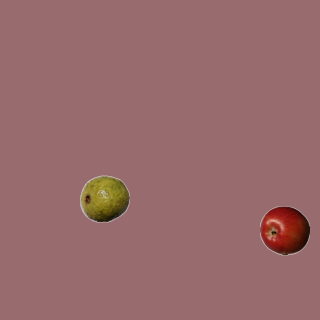Apple Braeburn: (259, 205, 309, 255)
Guava: (79, 173, 129, 223)
